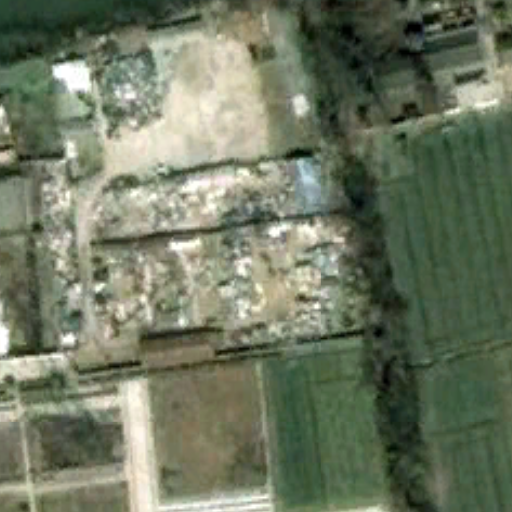msw: (34, 162, 362, 345), (96, 55, 163, 127)
